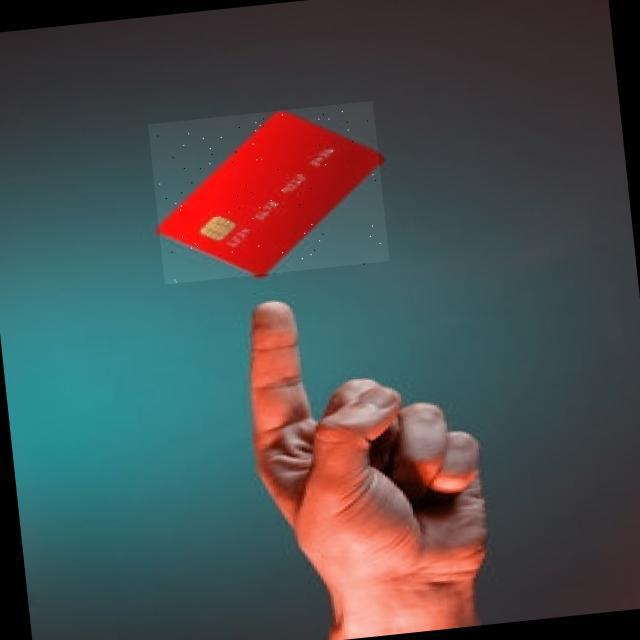payment_card: (155, 110, 384, 274)
